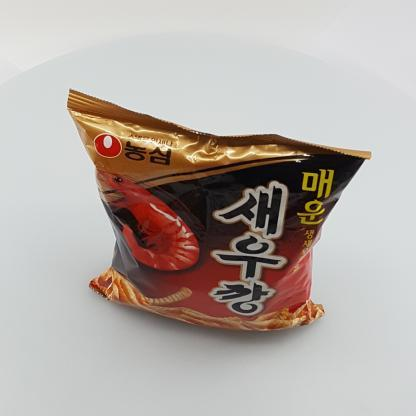Plastic Packaging: (64, 82, 380, 356)
